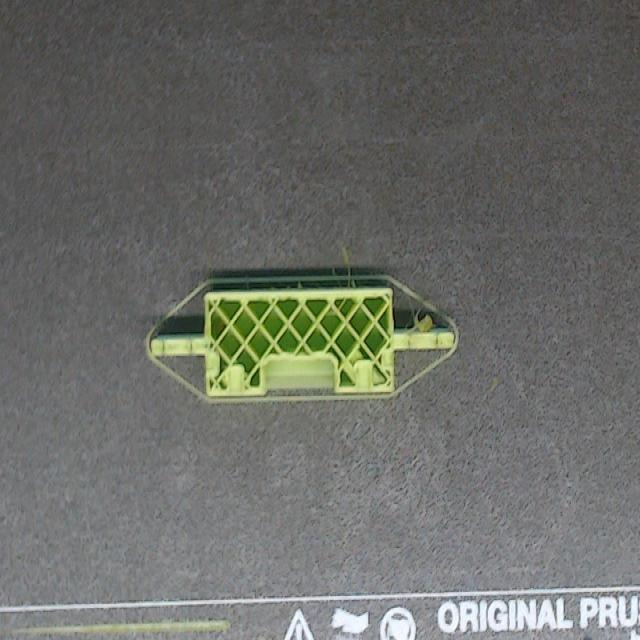mistake: (343, 247, 354, 287), (415, 315, 432, 332), (409, 311, 418, 325), (245, 271, 249, 288)
